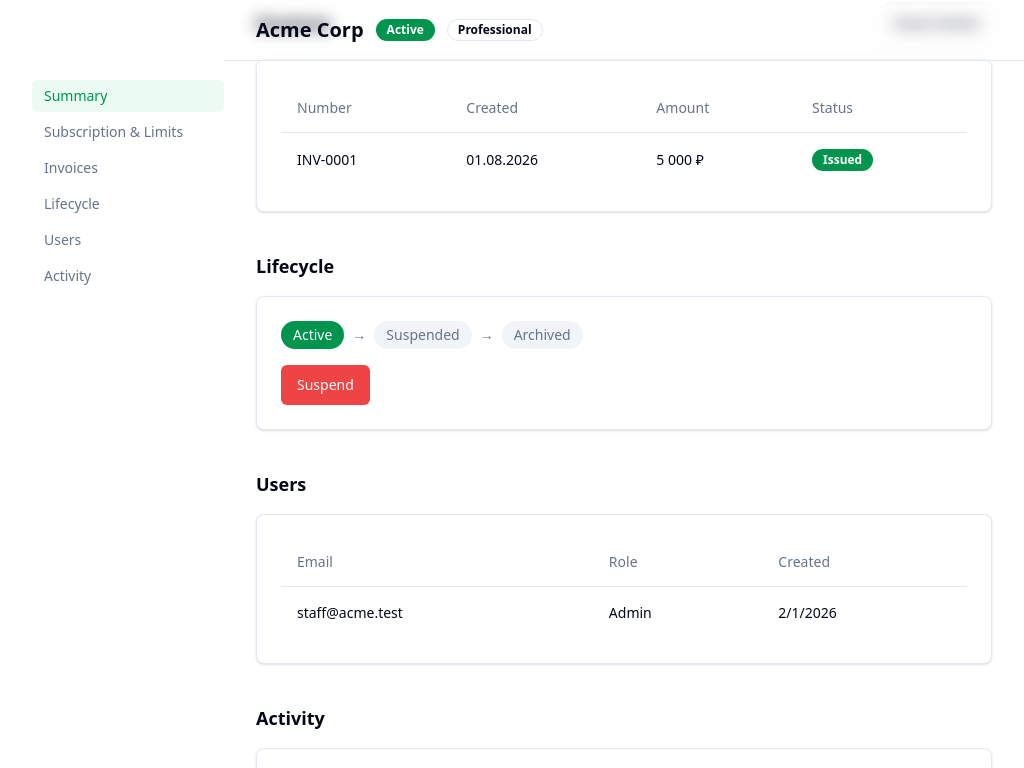
OrganizationDetail › suspend action is only offered for an active tenant, and opens the checkbox-gated dialog
(page scrolled)
Expected: the heading "Acme Corp" is shown, 256,16 -> 364,44
Click the button "Suspend" at (325, 384), box 281,364 -> 370,404
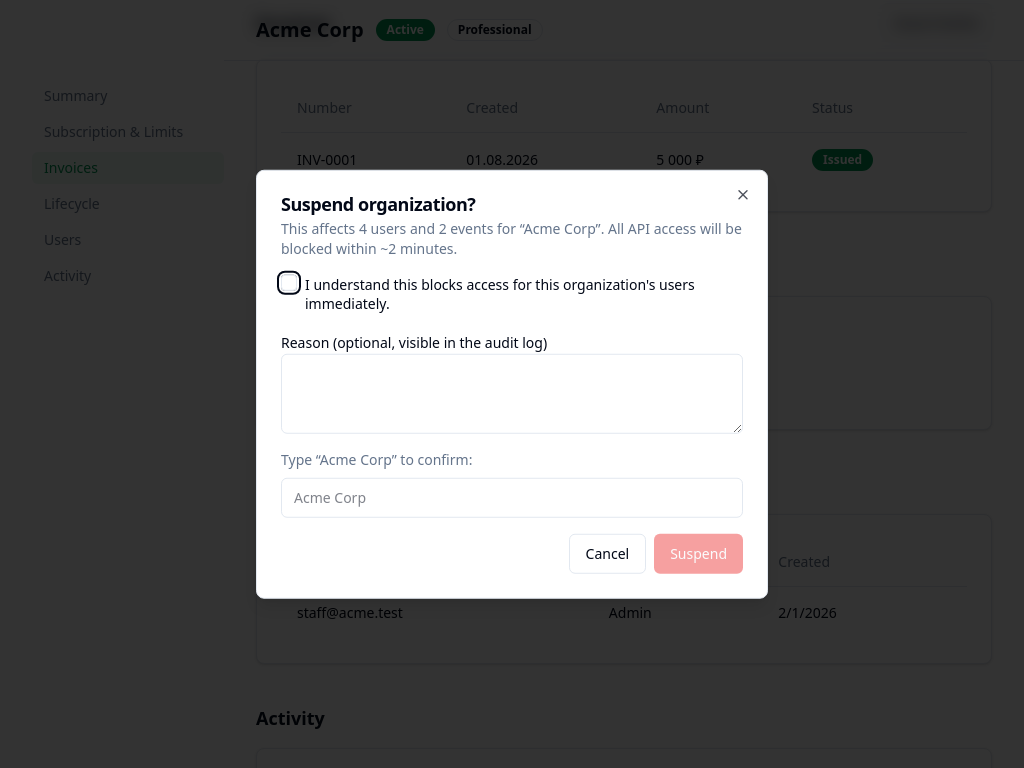
Expected: the checkbox is shown, 281,275 -> 297,291
